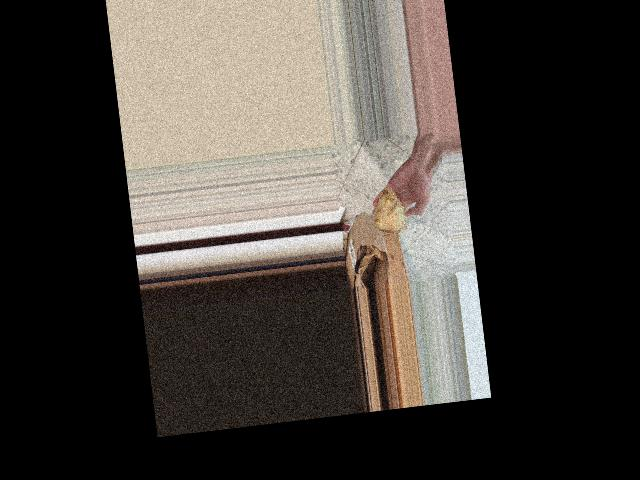onion: (368, 182, 414, 238)
